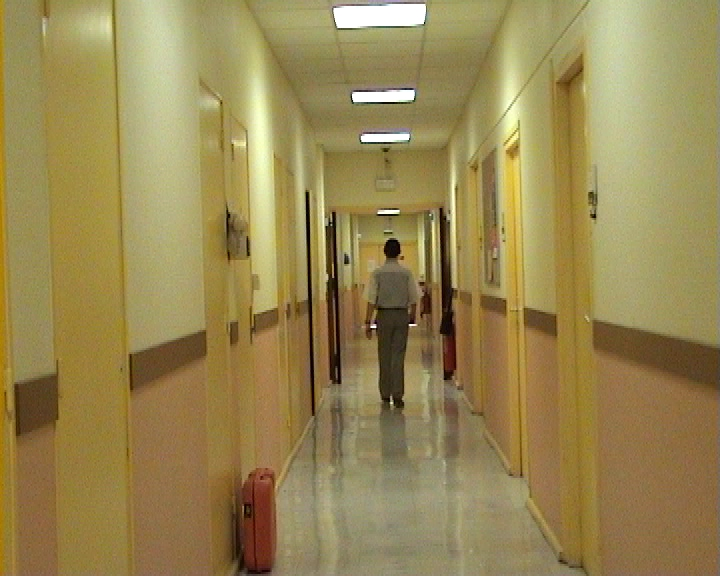leave bag unattended: (209, 455, 297, 576)
